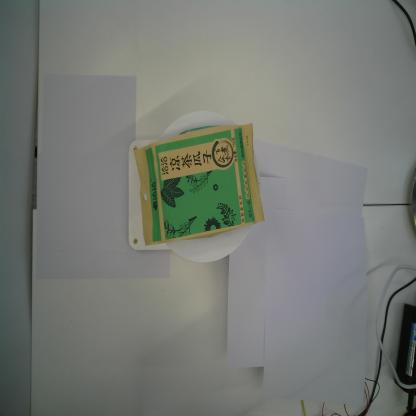Dried Food: (132, 121, 266, 248)
